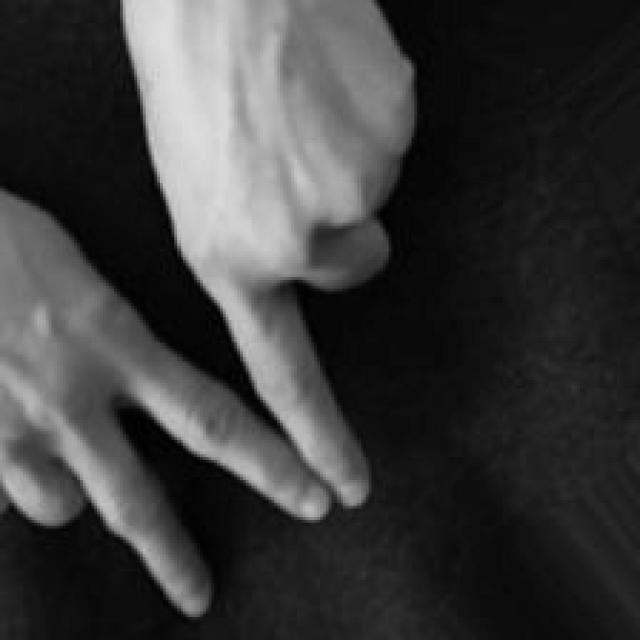N: (3, 0, 432, 640)
